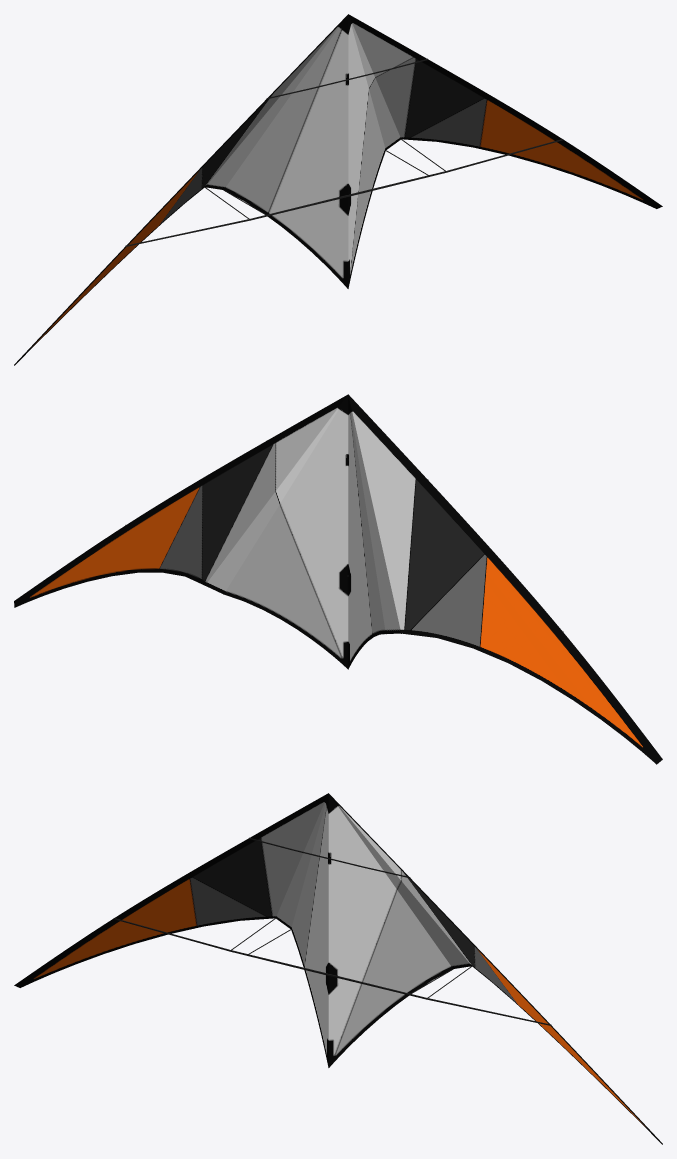
File: Shift-2018.obj
The picture shows the model from 3 angles, top to bottom: view 1: azimuth 30°, elevation 25°; view 2: azimuth 150°, elevation 25°; view 3: azimuth 330°, elevation 25°; orthographic projection.
Bounding box in the file's own units: 2280 × 949 × 277.
3 materials, 2 textured.
